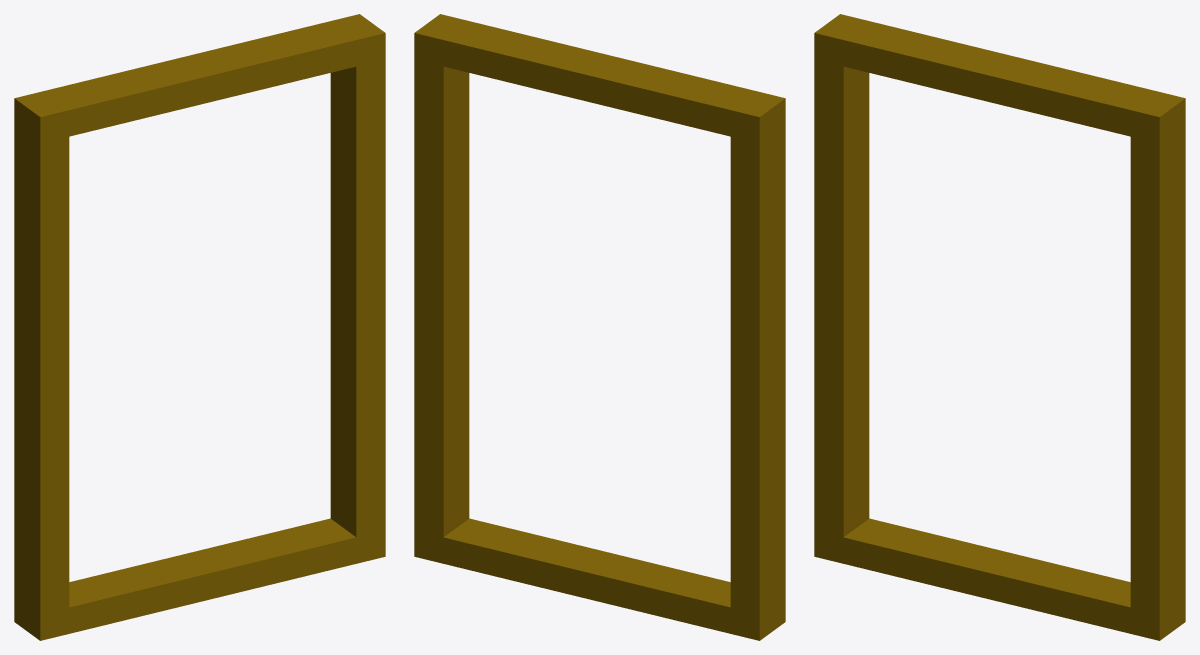
The model's file is Door_3.fbx.
3 renders of one model, left to right at view 1: azimuth 30°, elevation 25°; view 2: azimuth 150°, elevation 25°; view 3: azimuth 330°, elevation 25°, orthographic.
Parts seen in each view (by area): view 1: pCube2; view 2: pCube2; view 3: pCube2.
Part boxes in pixels (bbox=[...]): pCube2: bbox=[14, 14, 385, 640]; pCube2: bbox=[414, 14, 785, 640]; pCube2: bbox=[814, 14, 1185, 640].
Size of the model in its own units: 105 by 153 by 13.69.
